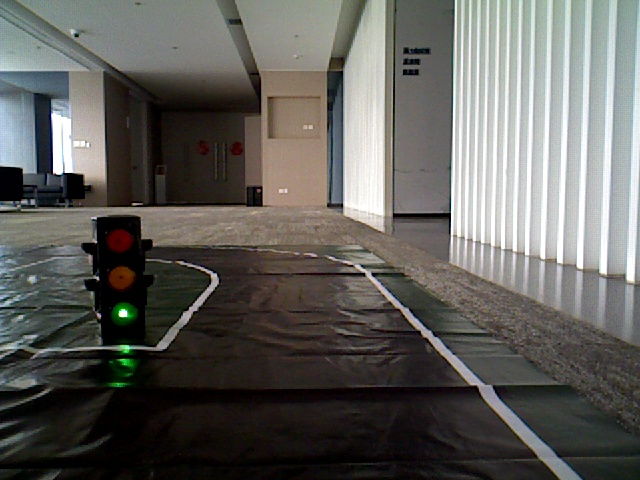green: (97, 223, 139, 330)
